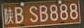B: (15, 7, 24, 24)
